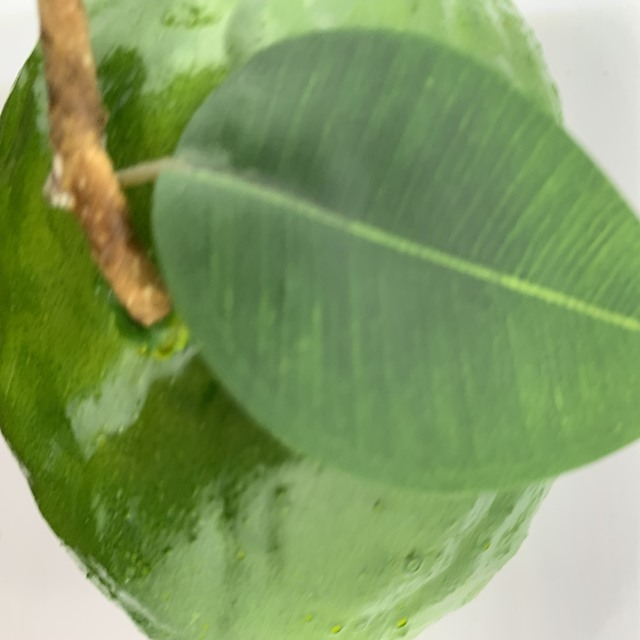Cam xanh: (0, 0, 598, 640)
